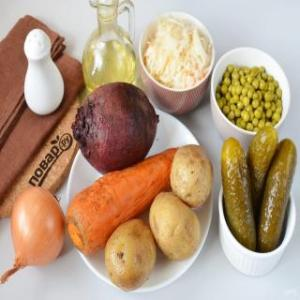beet: (72, 78, 163, 178)
carrot: (65, 145, 203, 259)
cucumber: (258, 132, 300, 262), (220, 134, 258, 262), (244, 125, 278, 212)
onion: (2, 183, 66, 291)
potato: (148, 184, 206, 270), (100, 215, 158, 297), (170, 140, 214, 210)
